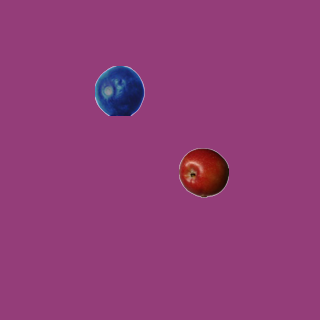Apple Braeburn: (178, 147, 228, 197)
Huckleberry: (94, 65, 144, 115)
